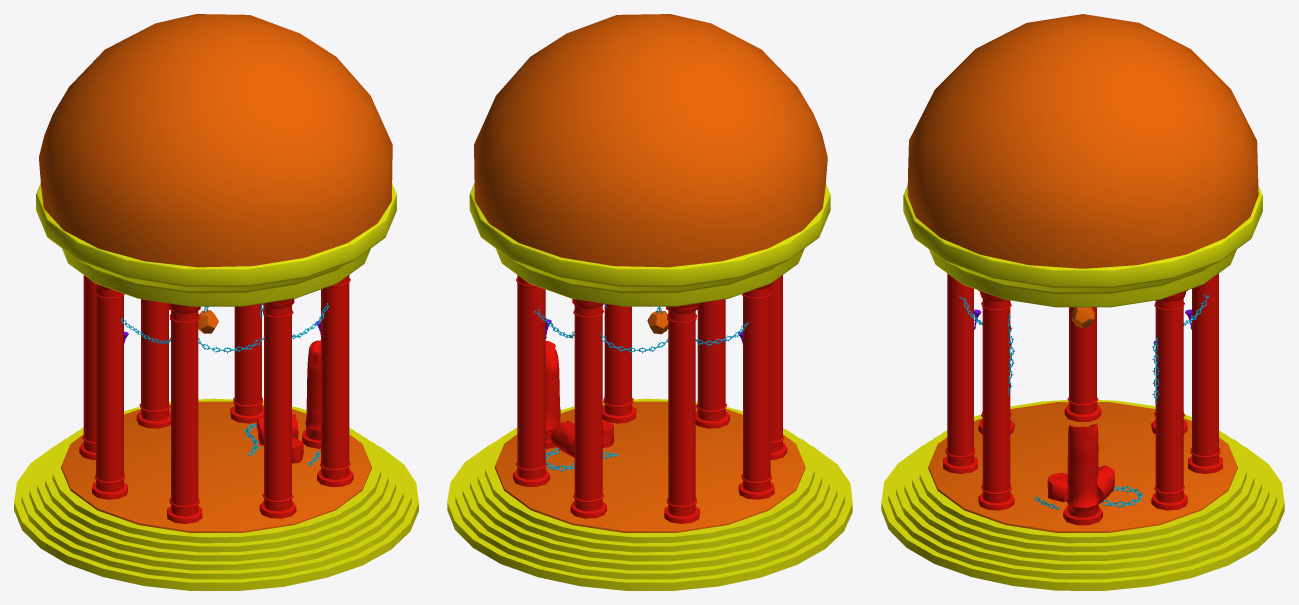
Rendered from uploads_files_3520124_altar.fbx.
The picture shows the model from 3 angles, left to right: view 1: azimuth 30°, elevation 25°; view 2: azimuth 150°, elevation 25°; view 3: azimuth 270°, elevation 25°; orthographic projection.
Parts seen in each view (by area): view 1: altar; view 2: altar; view 3: altar.
Part boxes in pixels (bbox=[...]): altar: bbox=[14, 14, 418, 590]; altar: bbox=[447, 14, 852, 590]; altar: bbox=[881, 14, 1284, 590].
Size of the model in its own units: 2392 by 3108 by 2392.
